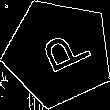P_SW: (27, 25, 90, 81)
